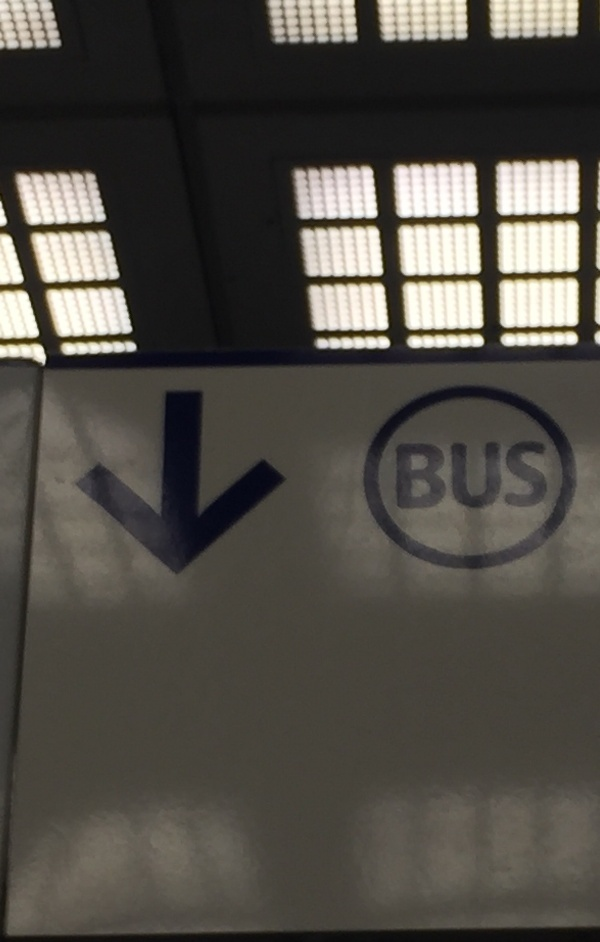text: (401, 439, 416, 511), (417, 439, 432, 511), (433, 439, 448, 511), (449, 439, 464, 511), (465, 439, 480, 511), (481, 439, 496, 511), (497, 439, 512, 511), (513, 439, 528, 511), (529, 439, 544, 511), (395, 439, 400, 511), (545, 439, 548, 511)
